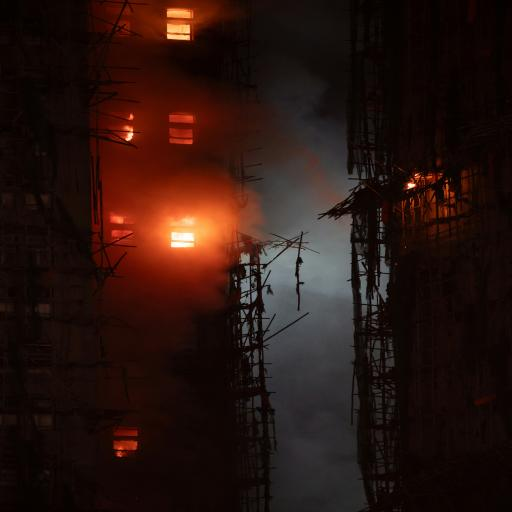buildingfire: (42, 0, 337, 512)
